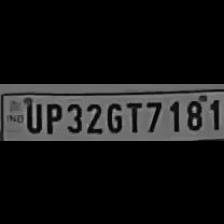1: (162, 96, 182, 132), (206, 96, 222, 130)
2: (83, 99, 103, 134)
3: (64, 100, 82, 132)
7: (142, 97, 162, 132)
8: (181, 96, 203, 130)
G: (104, 99, 124, 134)
P: (42, 99, 62, 133)
T: (124, 98, 144, 132)
U: (22, 99, 42, 131)
